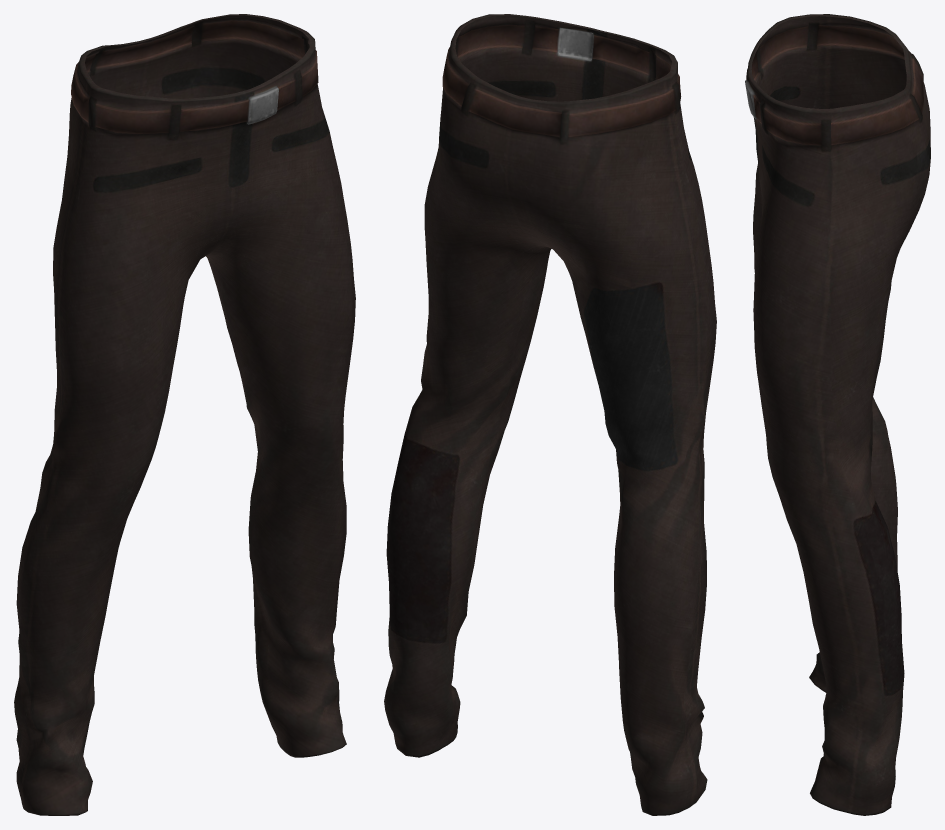
Rendered from pants.glb.
The picture shows the model from 3 angles, left to right: view 1: azimuth 30°, elevation 25°; view 2: azimuth 150°, elevation 25°; view 3: azimuth 270°, elevation 25°; orthographic projection. The views are drawn at different scales.
Visible parts, largest first — view 1: PantsLow; view 2: PantsLow; view 3: PantsLow.
Part boxes in pixels (x1,y1,x2,y2): PantsLow: [14, 14, 355, 815]; PantsLow: [384, 14, 716, 815]; PantsLow: [745, 14, 930, 815].
Size of the model in its own units: 0.9044 by 2 by 0.4895.
1 material, 1 textured.
